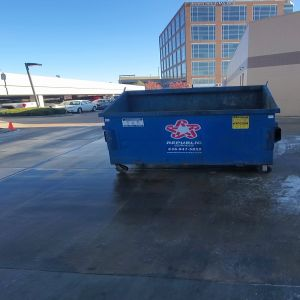Dumpster: (106, 86, 283, 177)
